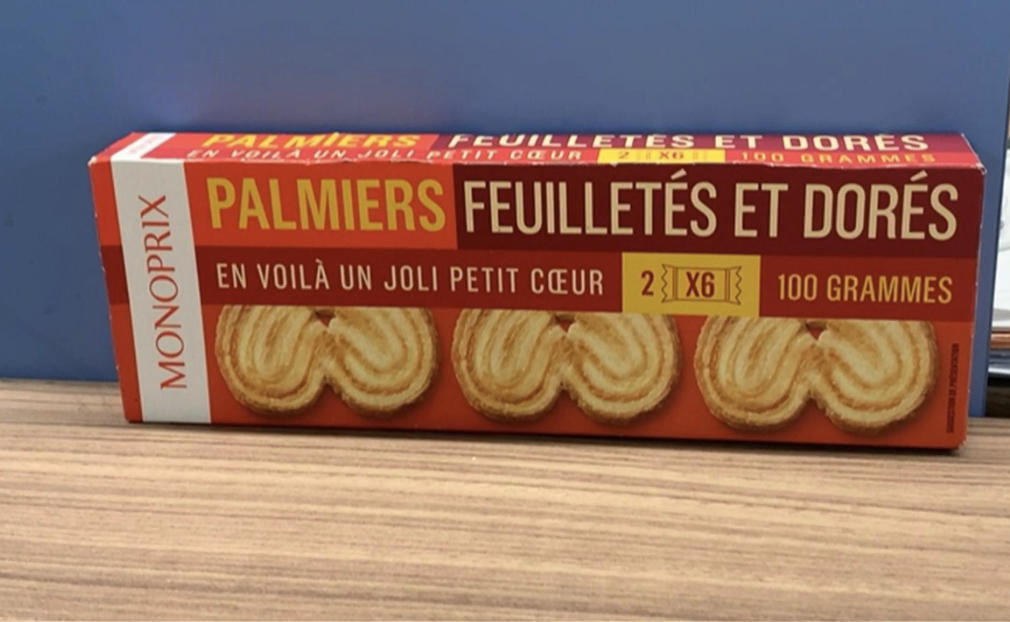cookies_150g: (126, 170, 957, 418)
